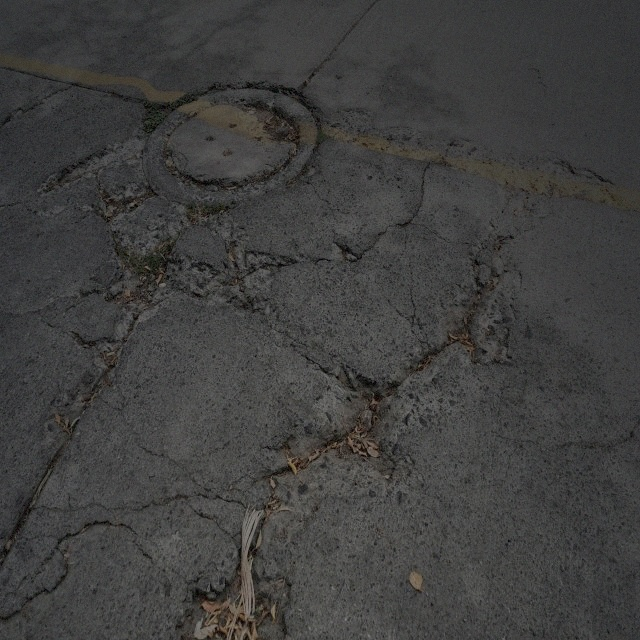pothole: (176, 536, 298, 632), (337, 360, 413, 471), (107, 232, 180, 320), (50, 130, 144, 195), (441, 288, 485, 361), (98, 170, 154, 223), (247, 97, 299, 146), (256, 252, 298, 274), (330, 236, 360, 264)
